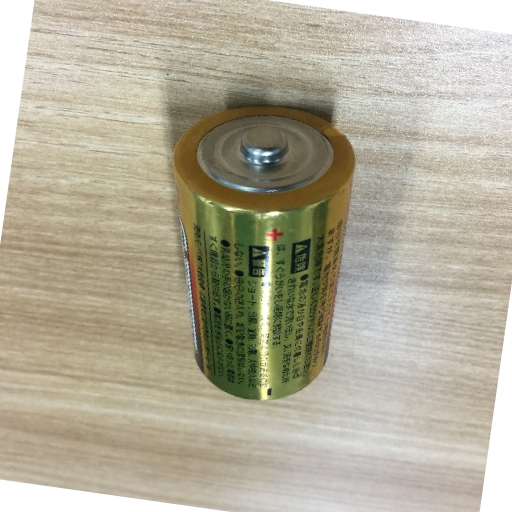Battery_0: (141, 92, 366, 401)
